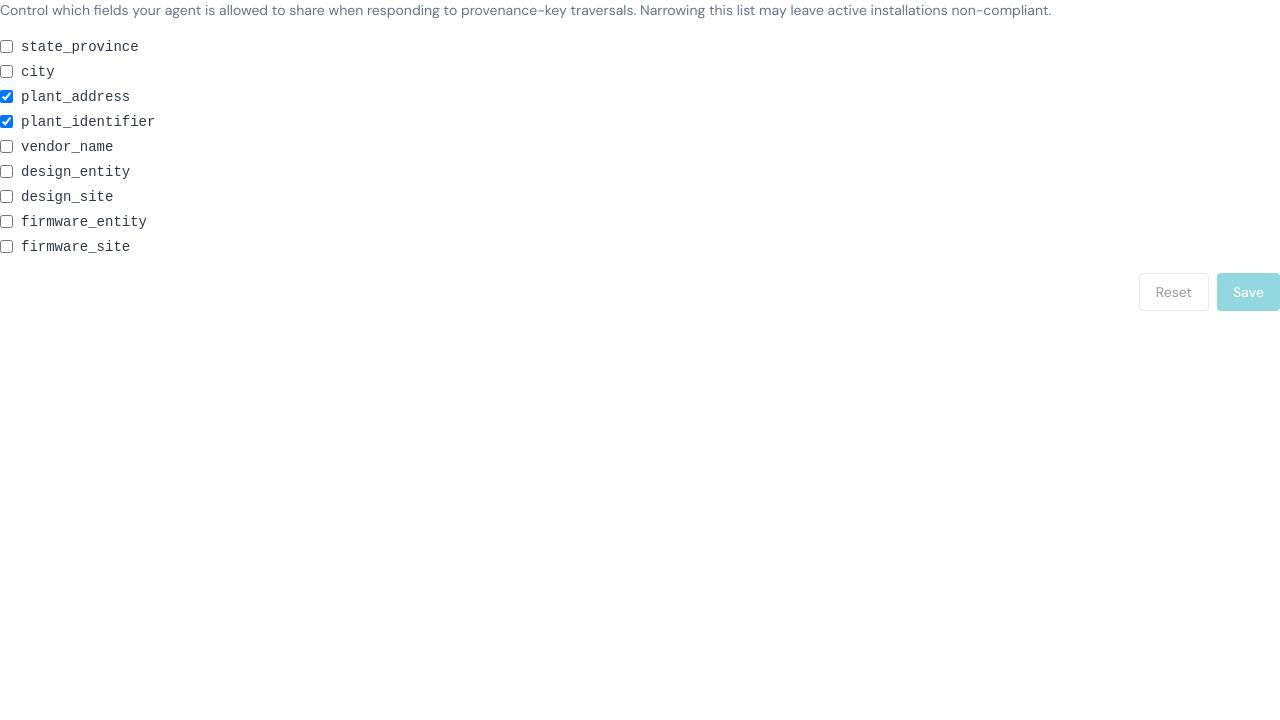
Test: SharingPolicyPanel › on Save with narrowing, first does dry_run and shows confirm modal with warning count
// Toggle plant_identifier off (narrow)
What coordinates should you click on to do the following:
click the checkbox labelled "plant_identifier"
I would click on:
 (6, 122)
Its box is [0,115,13,128].
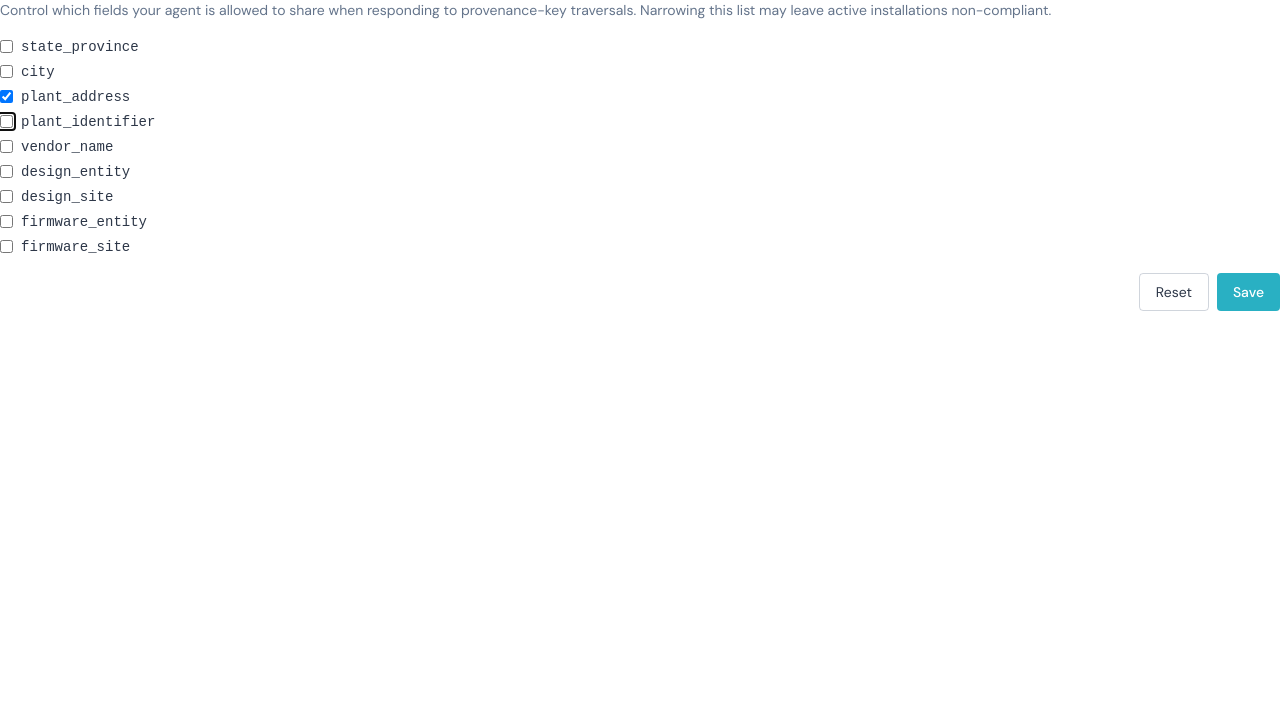
What coordinates should you click on to do the following:
click the button "Save"
I would click on:
 (1248, 292)
Its box is [1217,273,1279,311].
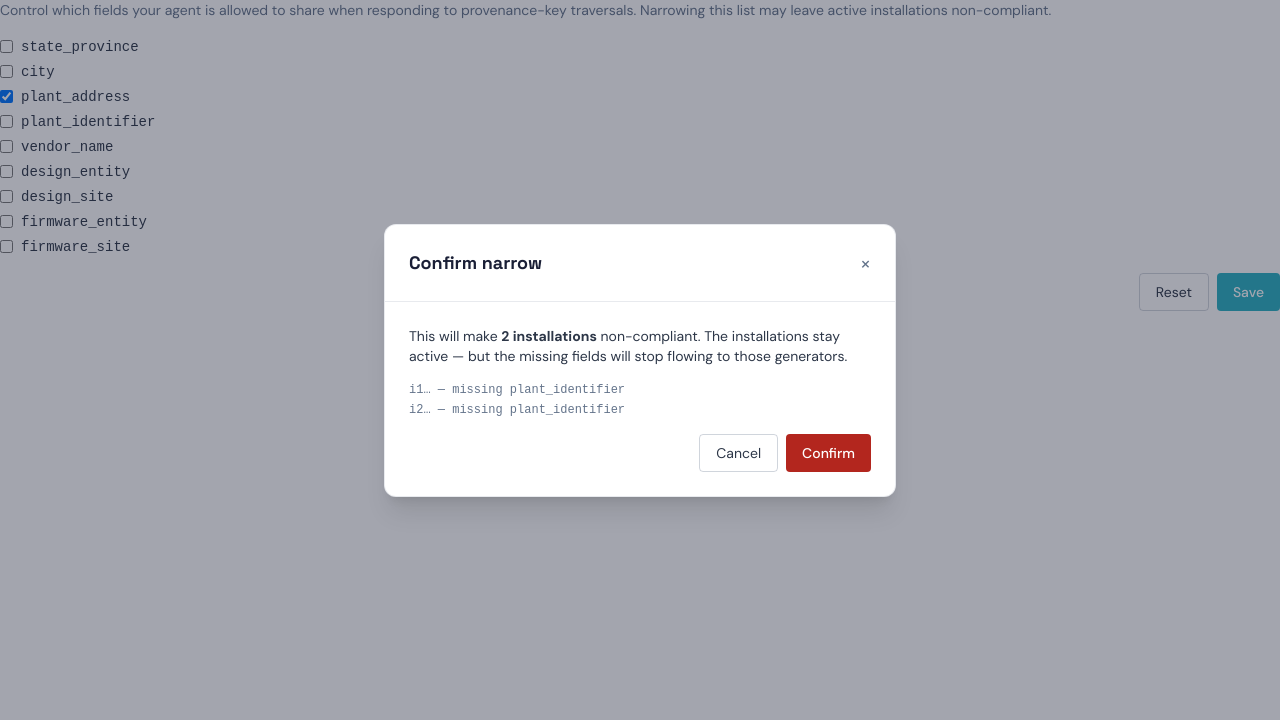
Now the text "2 installations" is shown, box [501,326,597,344]
Now the button "Confirm" is shown, box [786,434,871,472]
